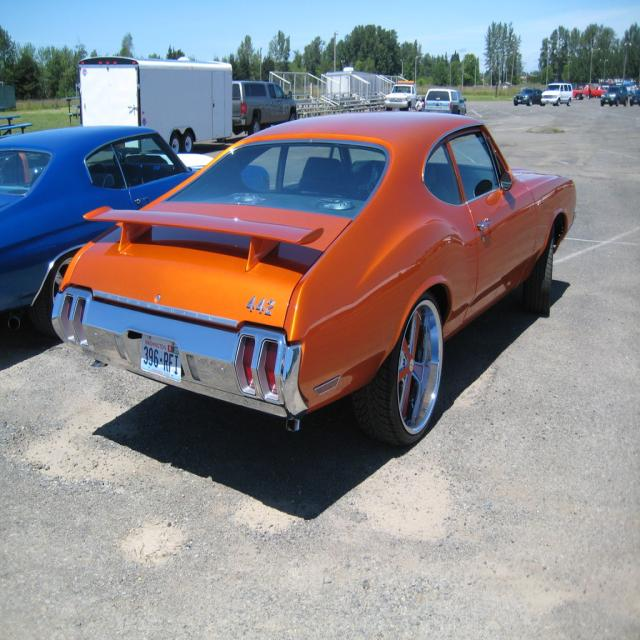car: (51, 105, 580, 446), (540, 80, 574, 105), (599, 82, 629, 103)
